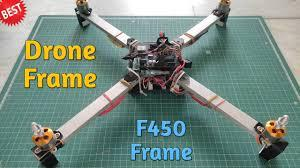drone: (34, 0, 290, 159)
